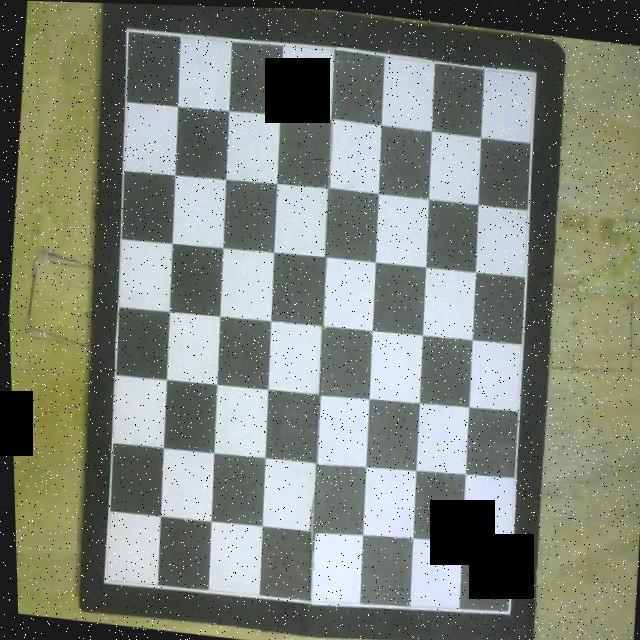chess-table-corners: (530, 64, 540, 78), (499, 604, 510, 614), (122, 24, 130, 36), (96, 577, 104, 586)
